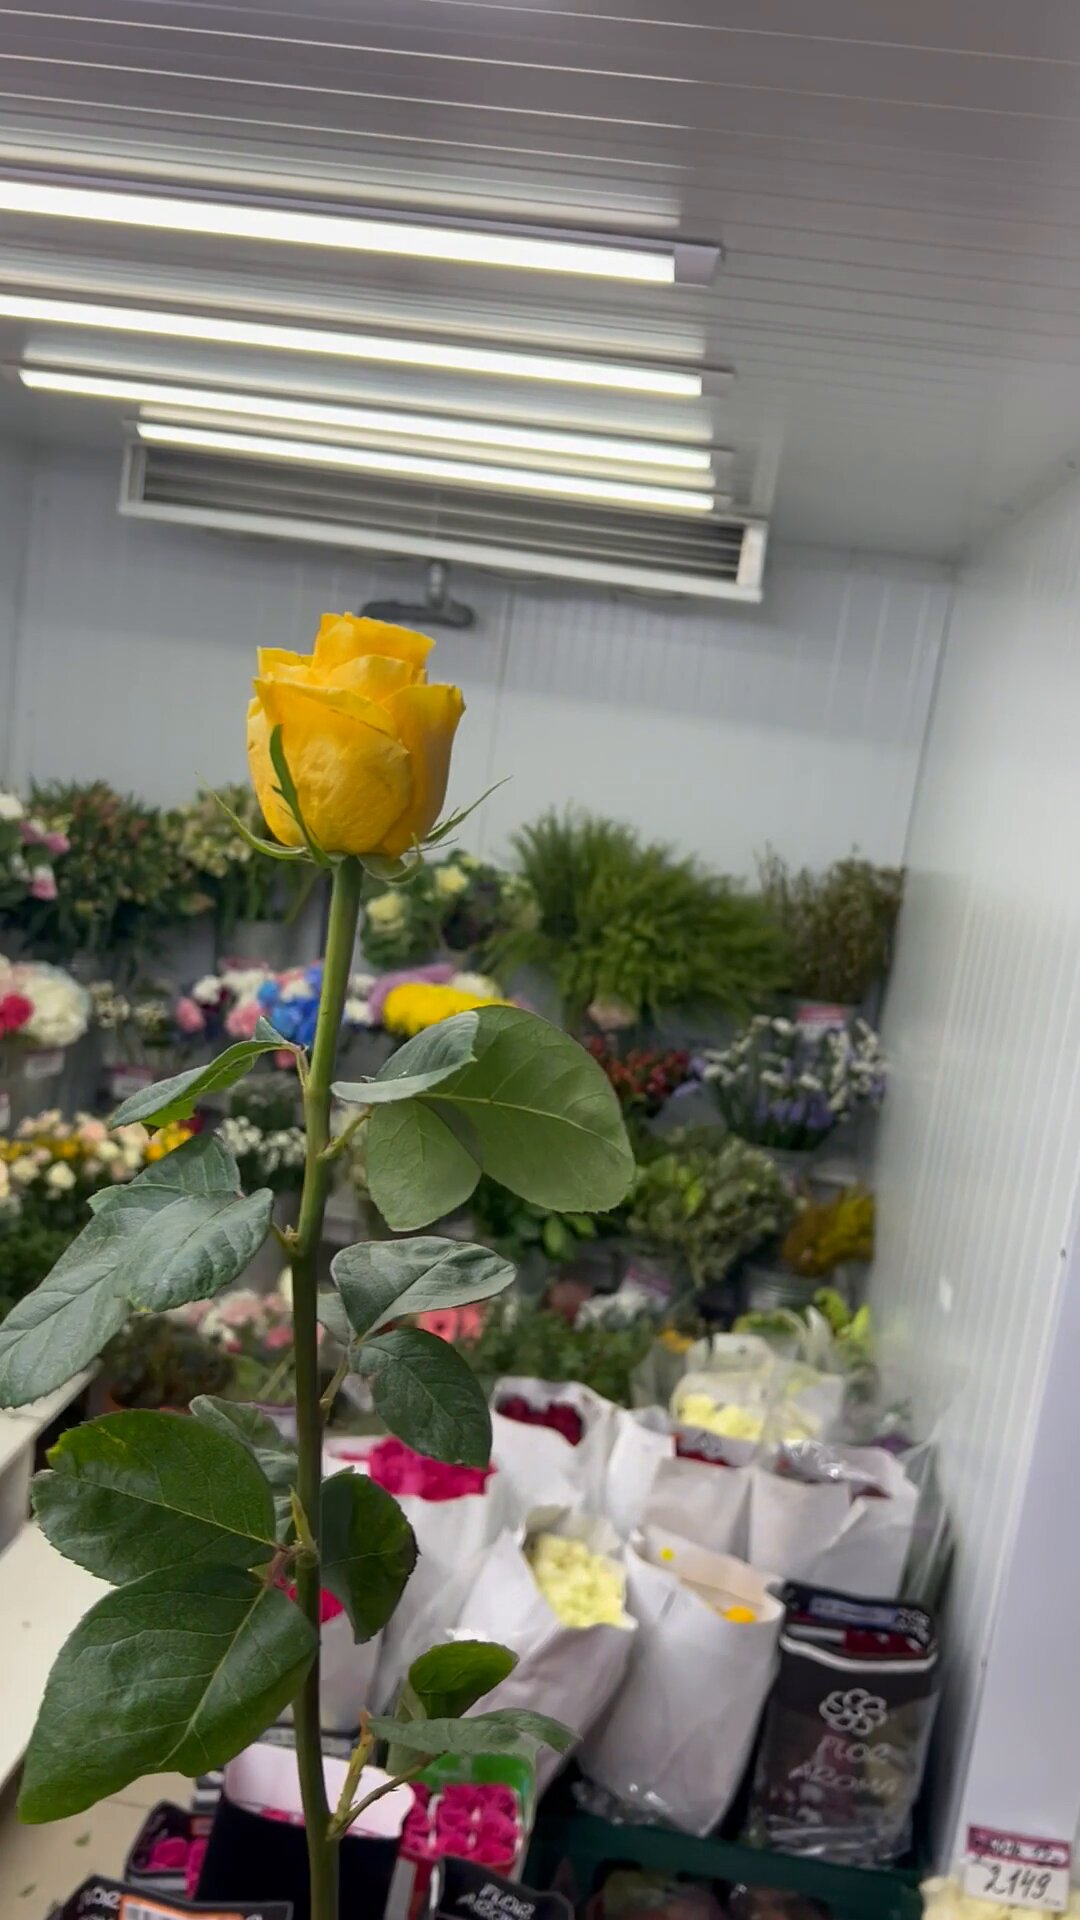rose: (70, 600, 593, 1900)
